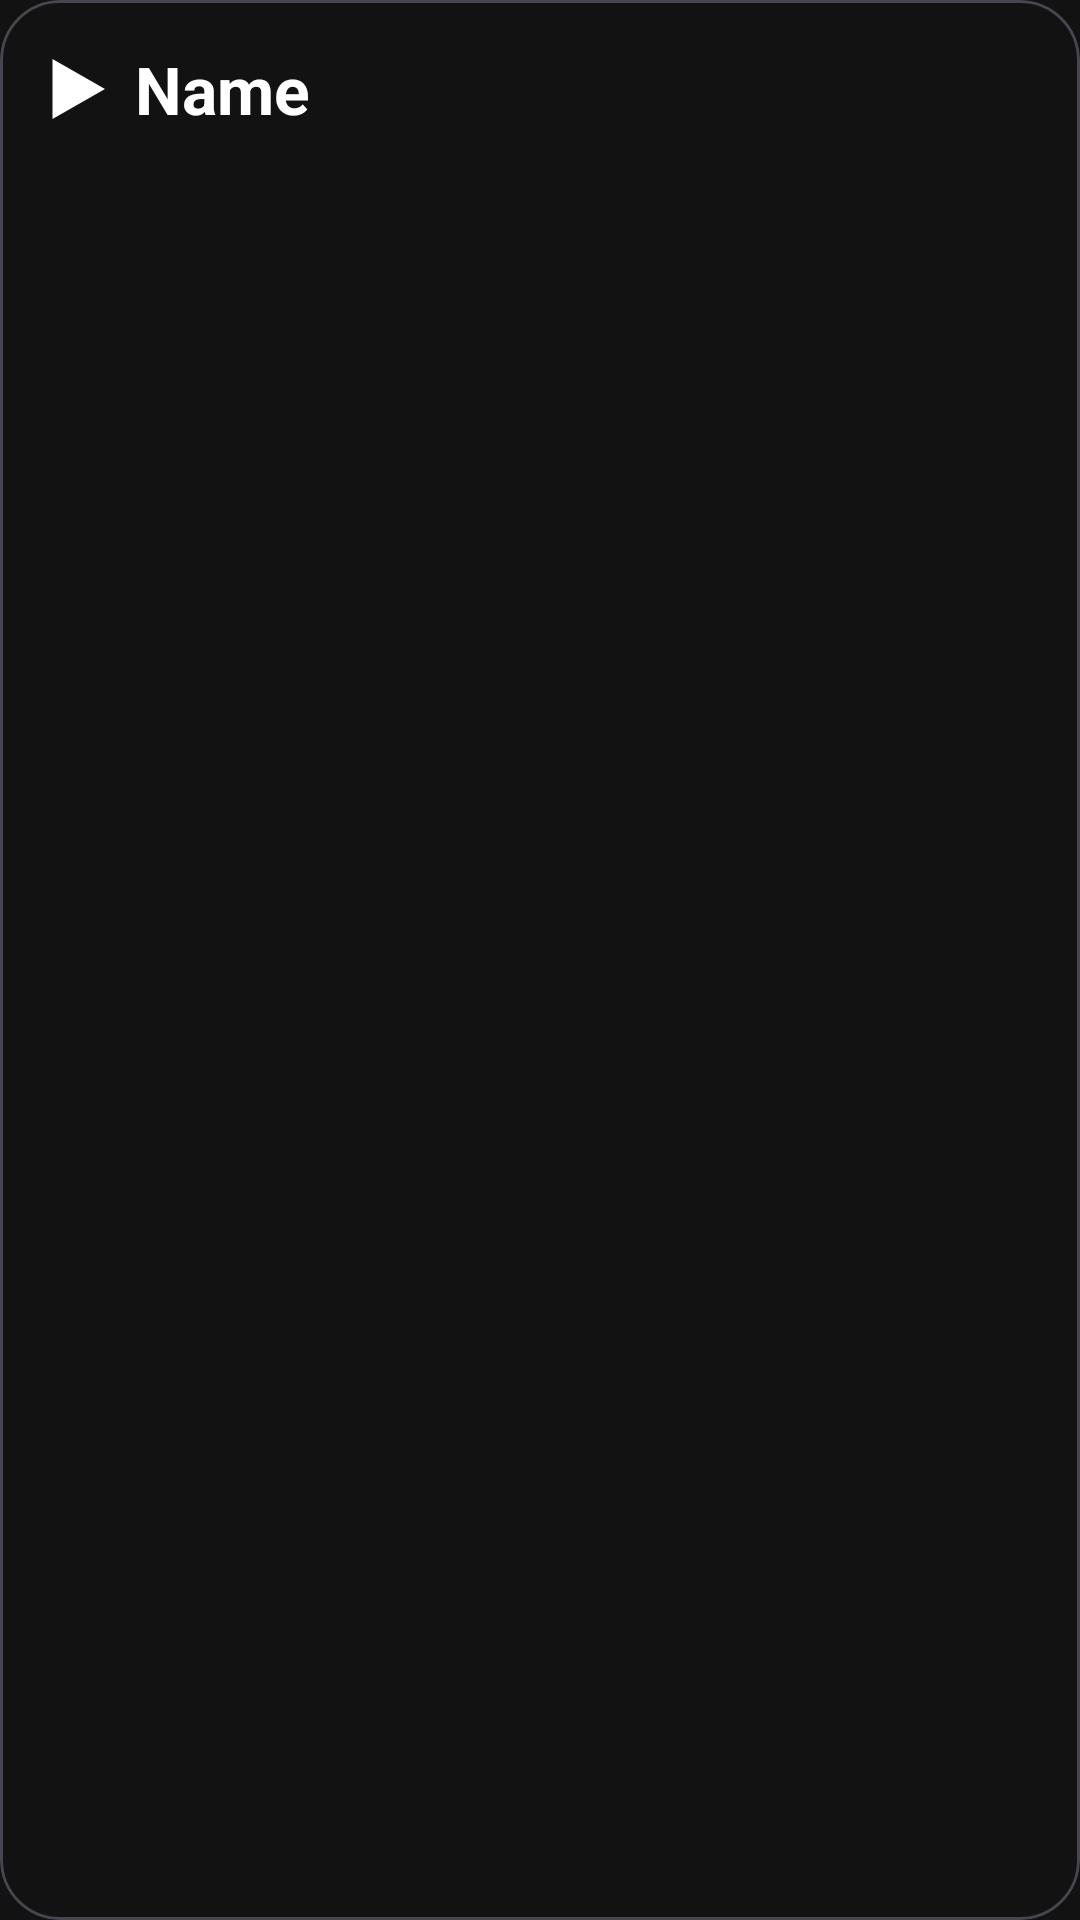

Where to tap for icons on this 1080w x 1920h app screen, as (x=x, y=y):
start: (x=78, y=89)
